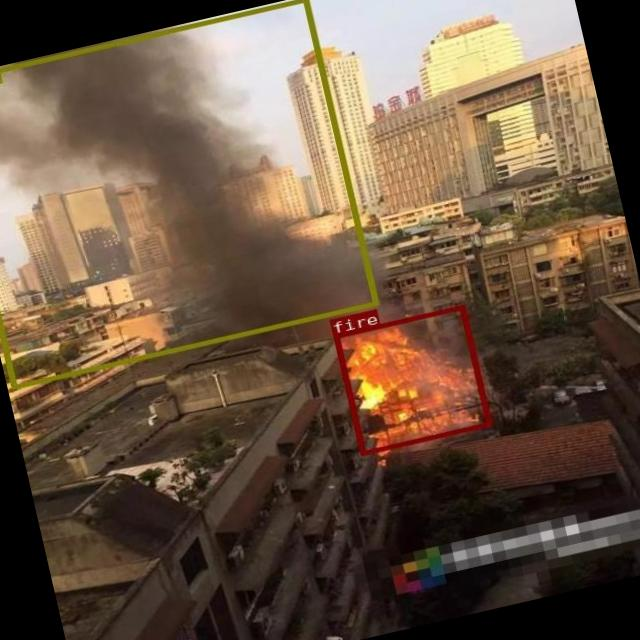fire: (332, 304, 491, 454)
smoke: (0, 0, 377, 388)
